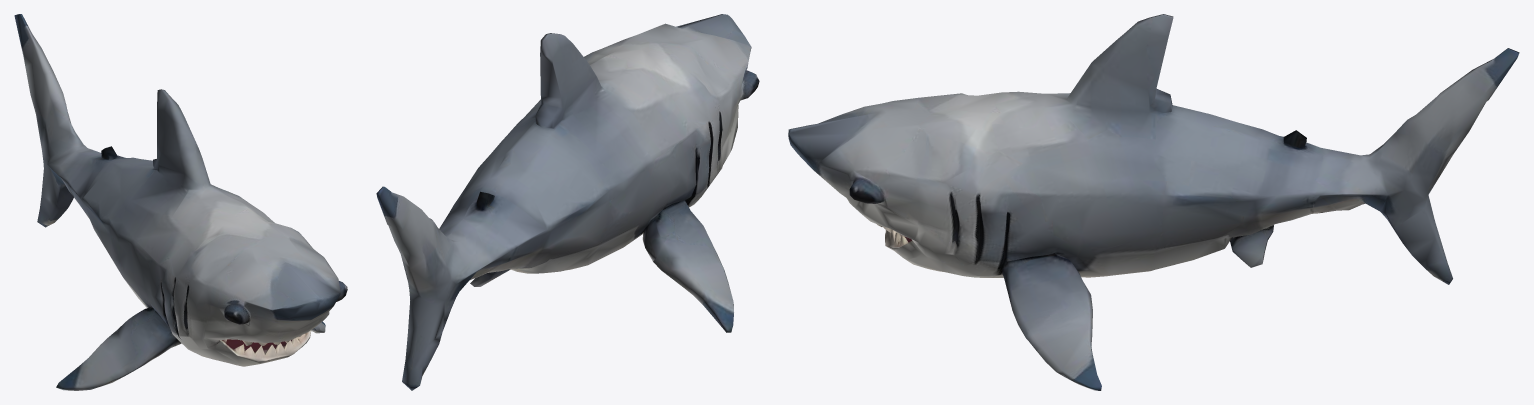
Rendered from shark.glb.
3 views of the same model, side by side, from view 1: azimuth 30°, elevation 25°; view 2: azimuth 150°, elevation 25°; view 3: azimuth 270°, elevation 25° (orthographic). The views are drawn at different scales.
Visible parts, largest first — view 1: tripo_node_572281e8-1dbc-49d8-b88a-bd7e5ee90491; view 2: tripo_node_572281e8-1dbc-49d8-b88a-bd7e5ee90491; view 3: tripo_node_572281e8-1dbc-49d8-b88a-bd7e5ee90491.
Boxes of the visible parts, x1,y1,x2,y2 form: tripo_node_572281e8-1dbc-49d8-b88a-bd7e5ee90491: (14,14,347,390); tripo_node_572281e8-1dbc-49d8-b88a-bd7e5ee90491: (376,14,759,390); tripo_node_572281e8-1dbc-49d8-b88a-bd7e5ee90491: (788,14,1519,390).
Size of the model in its own units: 0.5103 by 0.4518 by 1.
1 material, 1 textured.
